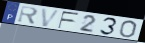2: (79, 15, 98, 34)
3: (98, 17, 119, 36)
F: (57, 11, 81, 30)
O: (118, 20, 139, 38)
R: (16, 5, 39, 26)
V: (40, 8, 62, 28)
